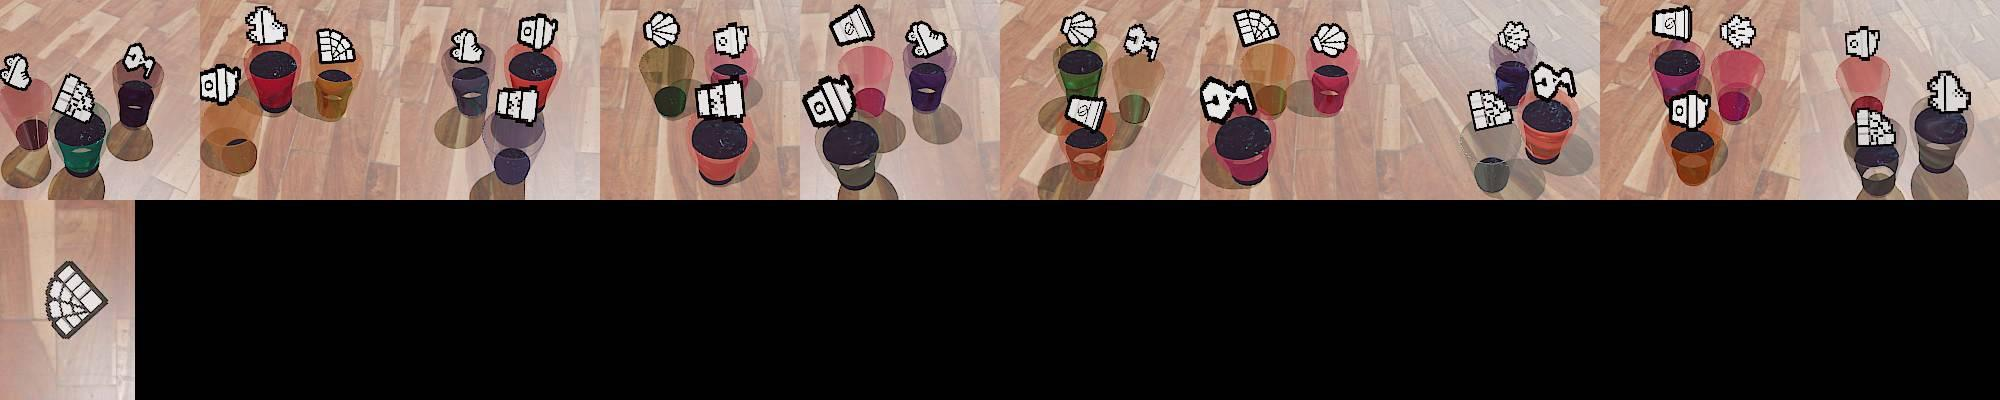icon: (43, 260, 109, 340), (800, 74, 857, 128), (1199, 76, 1256, 126), (51, 72, 98, 122), (694, 78, 746, 120), (1467, 87, 1514, 132), (828, 4, 876, 48), (1925, 70, 1971, 115), (243, 5, 289, 47), (1233, 8, 1279, 49), (1530, 61, 1577, 101), (494, 85, 541, 125), (198, 63, 241, 106), (1854, 105, 1898, 147), (905, 20, 949, 60), (1667, 90, 1712, 129), (517, 13, 559, 54), (1063, 95, 1107, 134), (1651, 5, 1693, 44), (1310, 21, 1350, 58), (1719, 14, 1757, 52), (316, 27, 355, 64), (712, 21, 751, 58), (1123, 21, 1158, 62), (643, 11, 680, 48), (1060, 10, 1096, 48), (450, 27, 484, 64), (0, 53, 33, 91), (1844, 24, 1879, 59), (121, 42, 156, 77), (1496, 20, 1532, 54)
